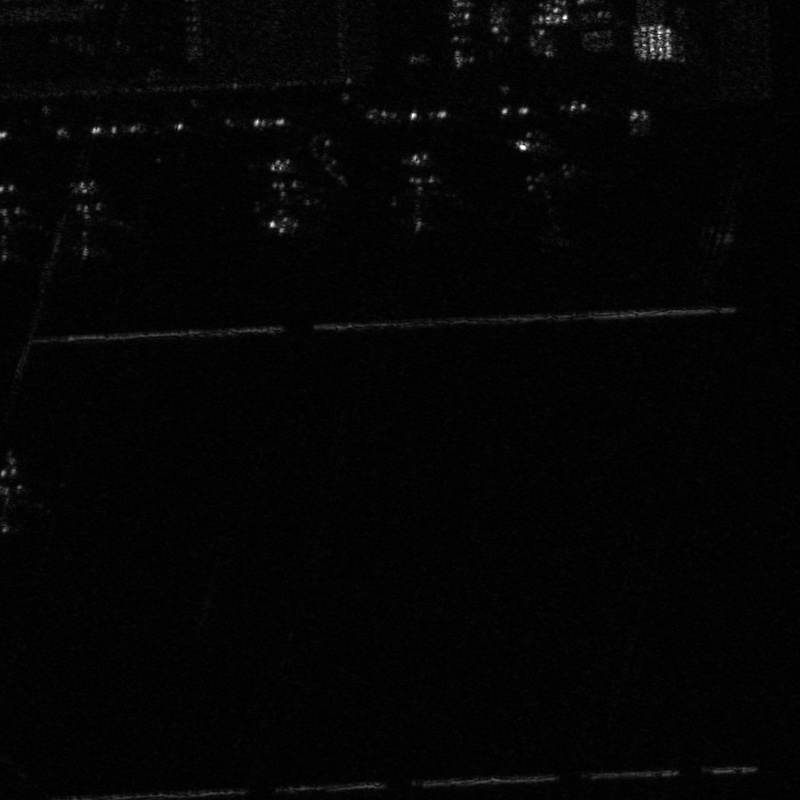Boeing737: (368, 141, 470, 240), (505, 126, 586, 237), (54, 168, 136, 271)
other: (245, 151, 328, 241), (1, 449, 52, 537)
